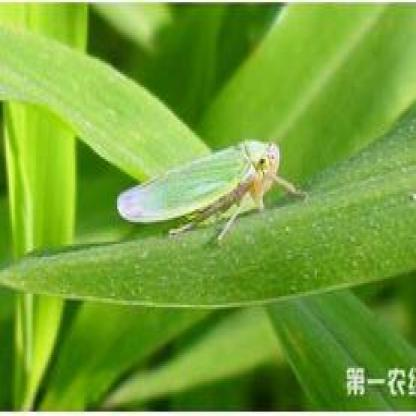Green-Leafhopper: (116, 133, 305, 249)
